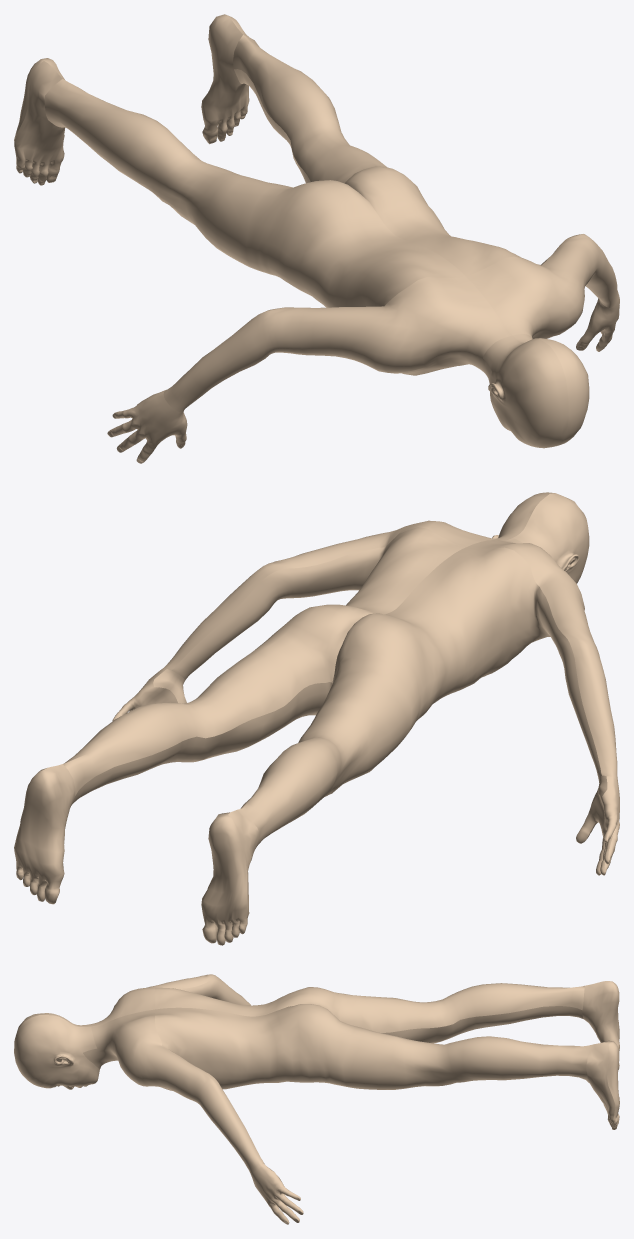
The model's file is demo.glb.
The picture shows the model from 3 angles, top to bottom: view 1: azimuth 30°, elevation 25°; view 2: azimuth 150°, elevation 25°; view 3: azimuth 270°, elevation 25°; orthographic projection. The views are drawn at different scales.
Size of the model in its own units: 1102 by 455 by 1680.
